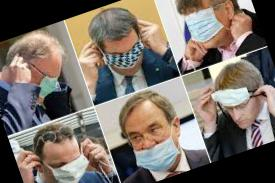mask_weared_incorrect: (124, 111, 182, 175), (182, 2, 234, 58), (104, 34, 153, 83), (44, 140, 94, 183), (218, 86, 262, 134), (30, 54, 69, 101)
